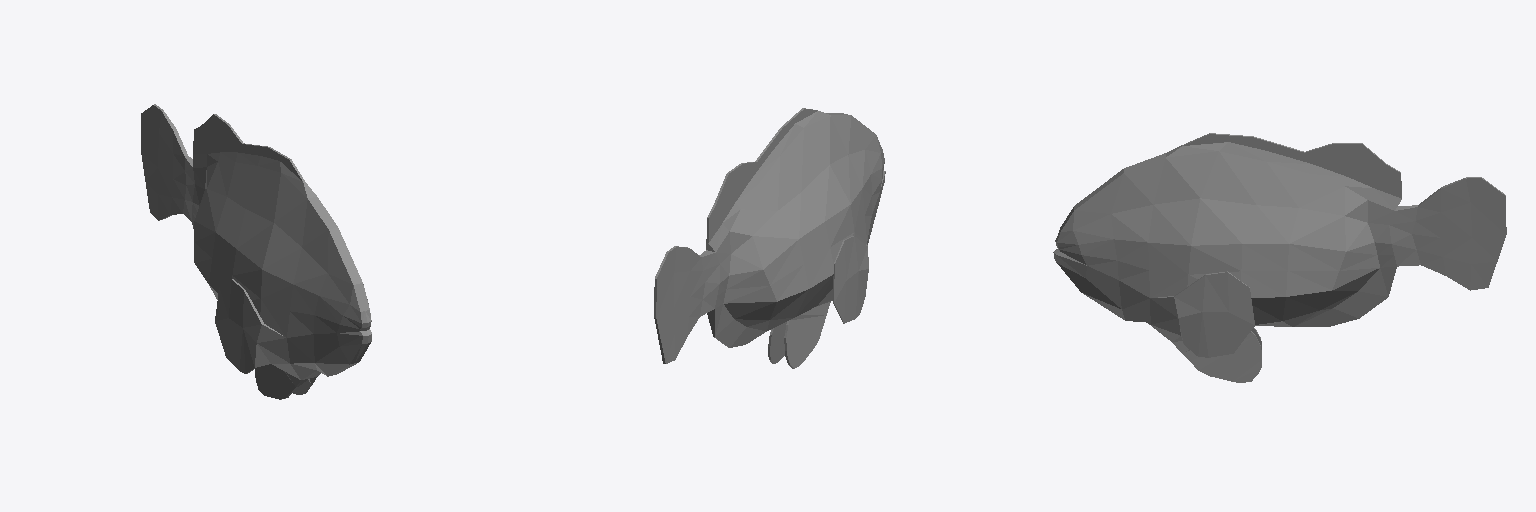
The model's file is TropicalFish11.obj.
3 renders of one model, left to right at view 1: azimuth 30°, elevation 25°; view 2: azimuth 150°, elevation 25°; view 3: azimuth 270°, elevation 25°, orthographic.
Parts seen in each view (by area): view 1: TropicalFish11; view 2: TropicalFish11; view 3: TropicalFish11.
Part boxes in pixels (left/top/right/bottom): TropicalFish11: left=141, top=104, right=371, bottom=399; TropicalFish11: left=654, top=108, right=885, bottom=368; TropicalFish11: left=1053, top=133, right=1506, bottom=382.
Size of the model in its own units: 135 by 293 by 493.